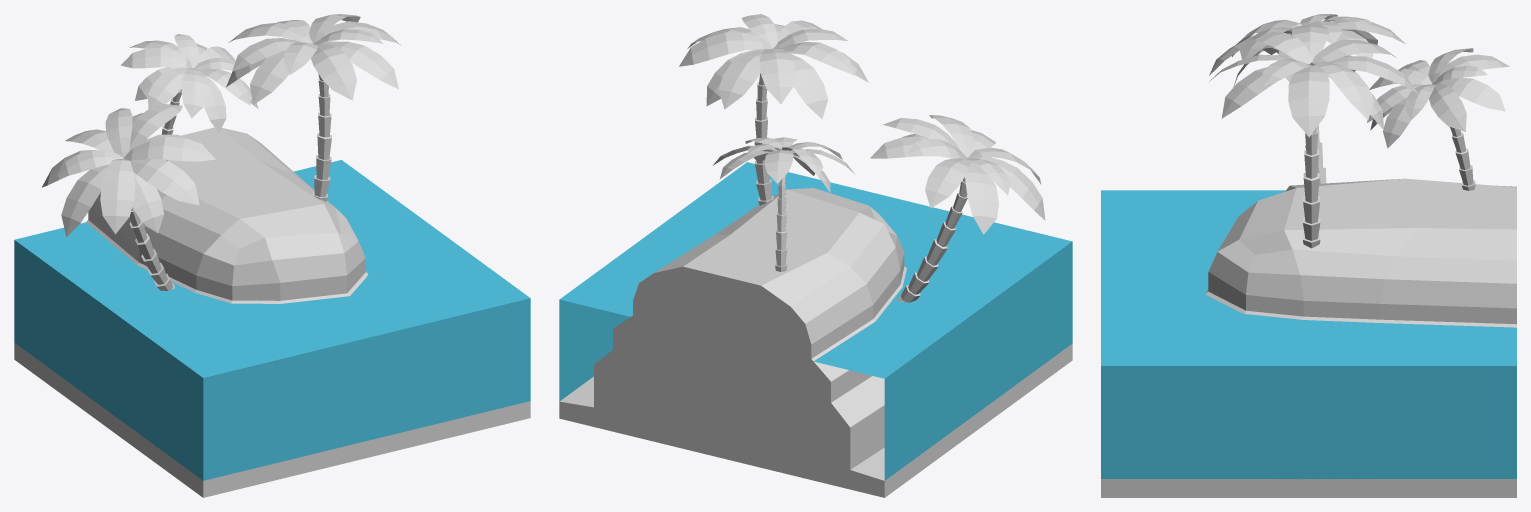
3 renders of one model, left to right at view 1: azimuth 30°, elevation 25°; view 2: azimuth 150°, elevation 25°; view 3: azimuth 270°, elevation 25°, orthographic. The views are drawn at different scales.
Visible parts, largest first — view 1: Island.001; view 2: Island.001; view 3: Island.001.
Boxes of the visible parts, box(x1,y1,x2,y2) form: Island.001: box(14, 14, 530, 497); Island.001: box(559, 14, 1072, 497); Island.001: box(1101, 14, 1516, 497).
Size of the model in its own units: 234 by 203 by 200.
